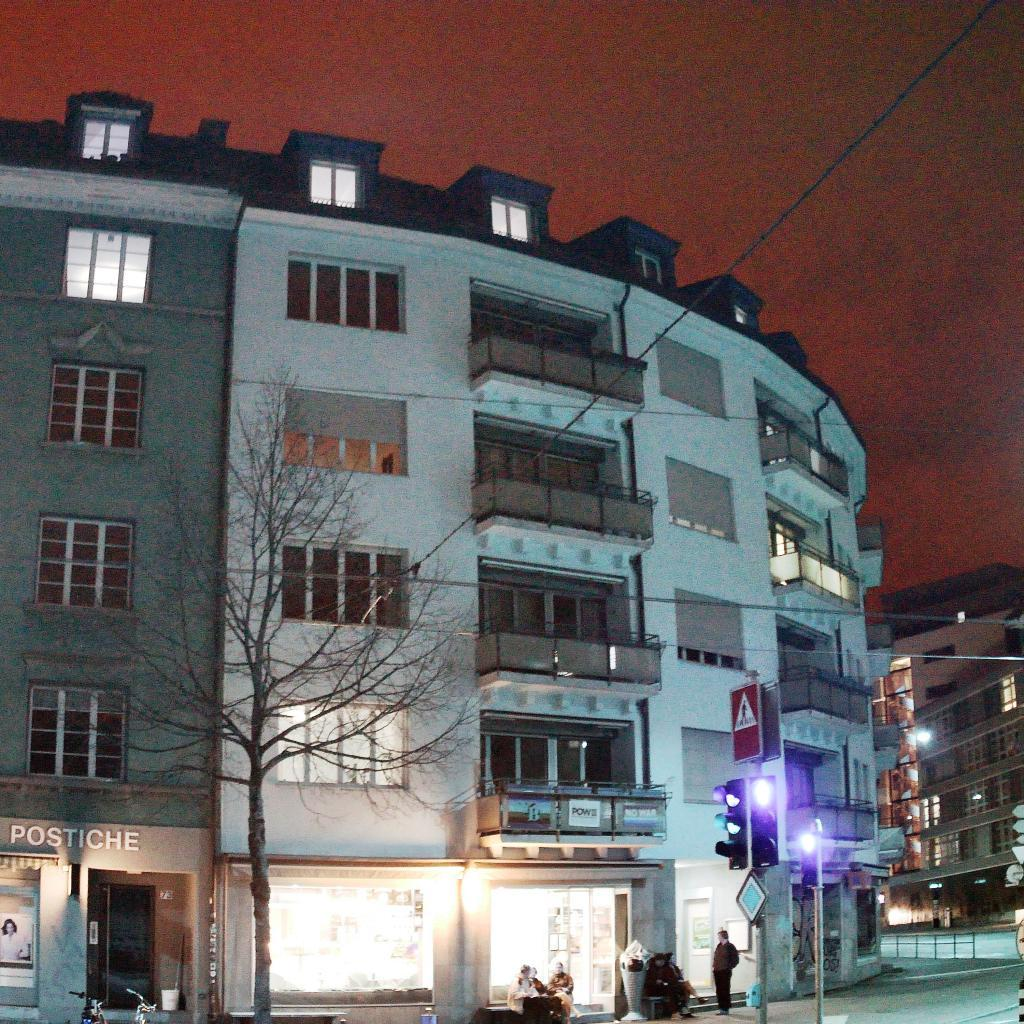balcony-fence: (470, 461, 655, 544), (466, 327, 645, 406), (473, 617, 662, 690), (476, 777, 668, 840), (757, 419, 849, 499), (769, 539, 861, 612), (779, 664, 870, 726), (785, 794, 875, 843)
facade: (0, 165, 903, 865)
shop: (0, 817, 890, 1024)
street: (621, 931, 1024, 1024)
traffic-infrastructure: (712, 678, 782, 1024), (799, 818, 825, 1024), (1016, 918, 1024, 961), (1019, 979, 1024, 1024)
vegetation: (26, 359, 491, 1024)
window: (483, 732, 617, 835), (481, 579, 607, 680), (476, 439, 604, 532), (281, 538, 411, 628), (278, 701, 405, 788), (283, 388, 406, 476), (28, 685, 126, 783), (35, 516, 133, 610), (287, 254, 400, 332), (475, 311, 587, 389), (48, 364, 142, 448), (62, 228, 151, 304), (655, 332, 727, 419), (666, 456, 737, 544), (675, 587, 747, 671), (681, 727, 744, 805), (310, 160, 359, 209), (83, 118, 131, 163), (781, 644, 808, 714), (491, 195, 530, 243), (772, 519, 797, 586), (787, 765, 815, 809), (634, 248, 663, 284), (765, 422, 787, 465), (735, 306, 747, 324)
